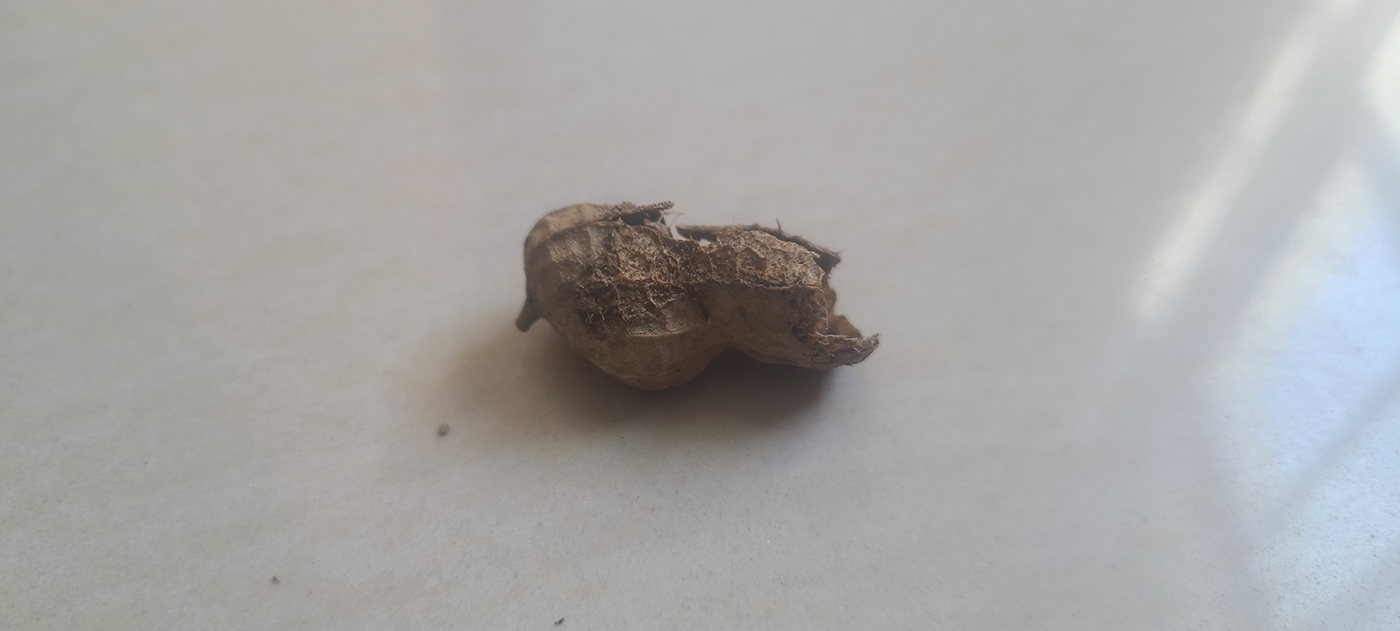l: (516, 202, 880, 389)
